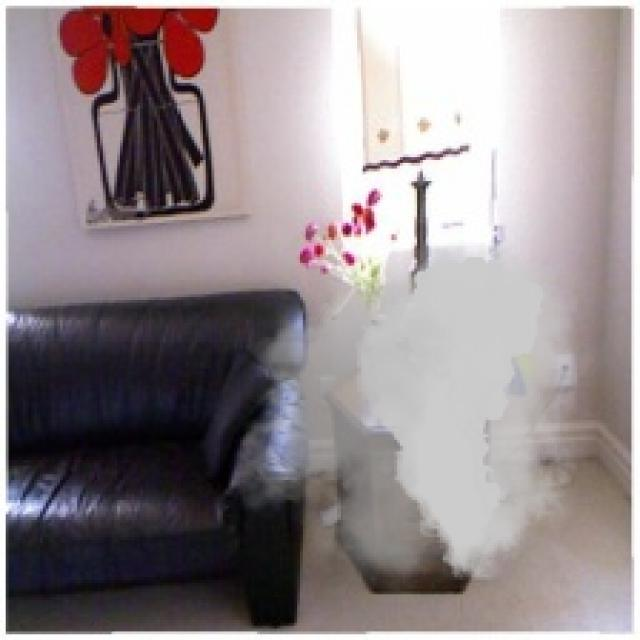smoke: (217, 231, 609, 603)
